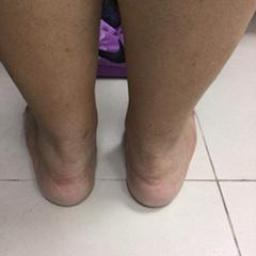Back View -Both Feet-: (9, 68, 212, 214)
